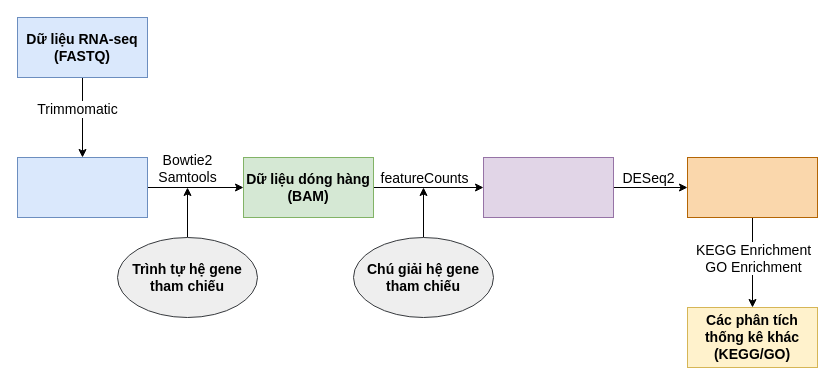
Some shapes in this 835 by 385 pixel diagram are drawn without their labels. Here are the shapes that lost their labels. From the top down, the box of each, then its label:
(16, 156, 148, 218): Dữ liệu tinh sạch (FASTQ)
(482, 156, 614, 218): Kết quả định lượng biểu hiện gene
(686, 156, 818, 218): Gene biểu hiện khác biệt
